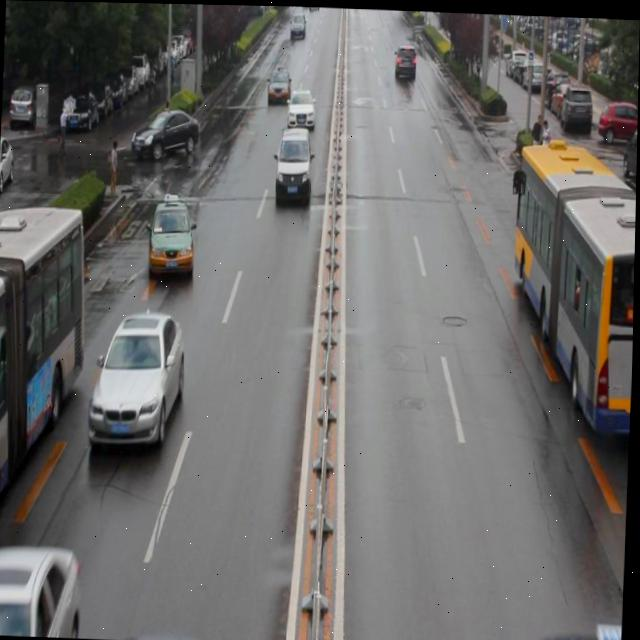car: (92, 310, 188, 449), (0, 541, 83, 634), (148, 195, 197, 276), (132, 108, 201, 158), (285, 86, 318, 133)
truck: (273, 128, 314, 202)
van: (502, 136, 638, 437), (0, 205, 88, 517)
